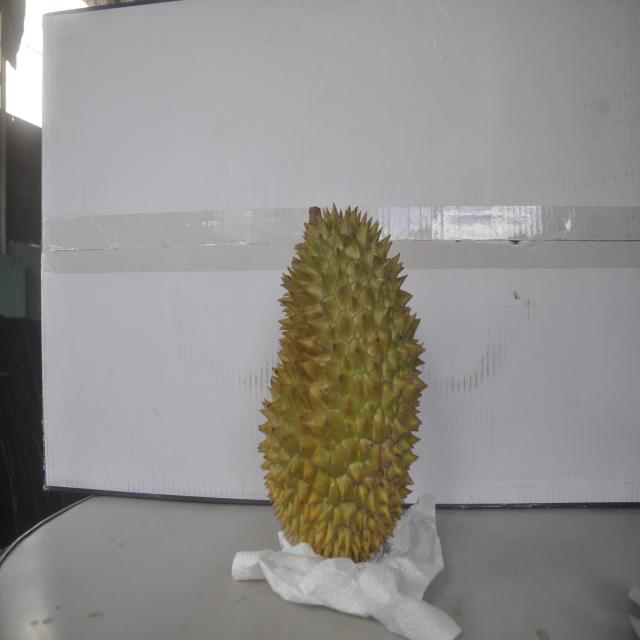mature: (259, 202, 427, 558)
